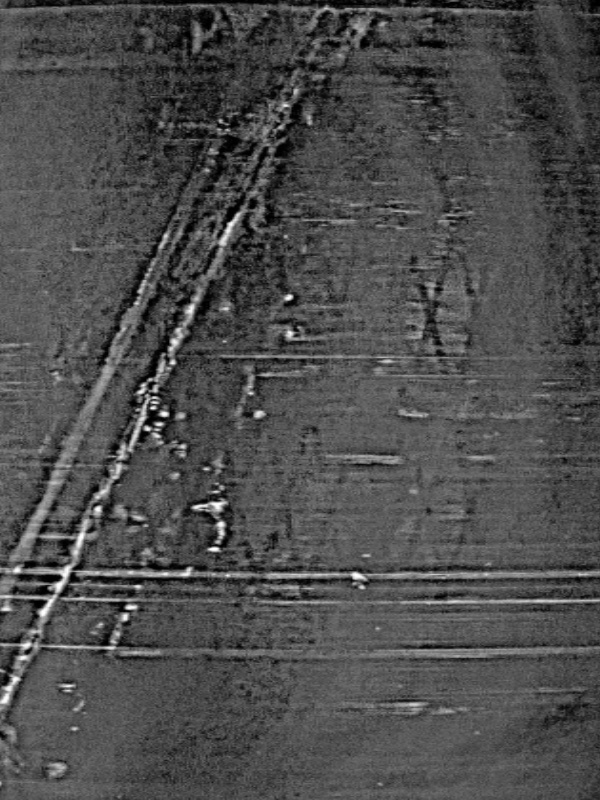splice_vulcanized: (1, 11, 373, 783)
